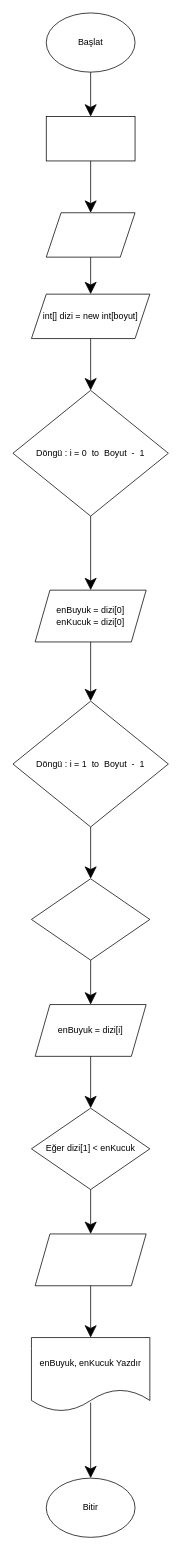
Image size: 181x1550. Some labels were removed from this diagram. The centre of each missing label's shape, as x and y in pixels:
"Boyut = 0" belongs at pixel 90 234.
"enKucuk = dizi[i]" belongs at pixel 90 1259.
"Eğer dizi[1] > enBuyuk" belongs at pixel 90 919.
"Kullanıcıdan Dizi Boyutunu Al" belongs at pixel 90 138.
